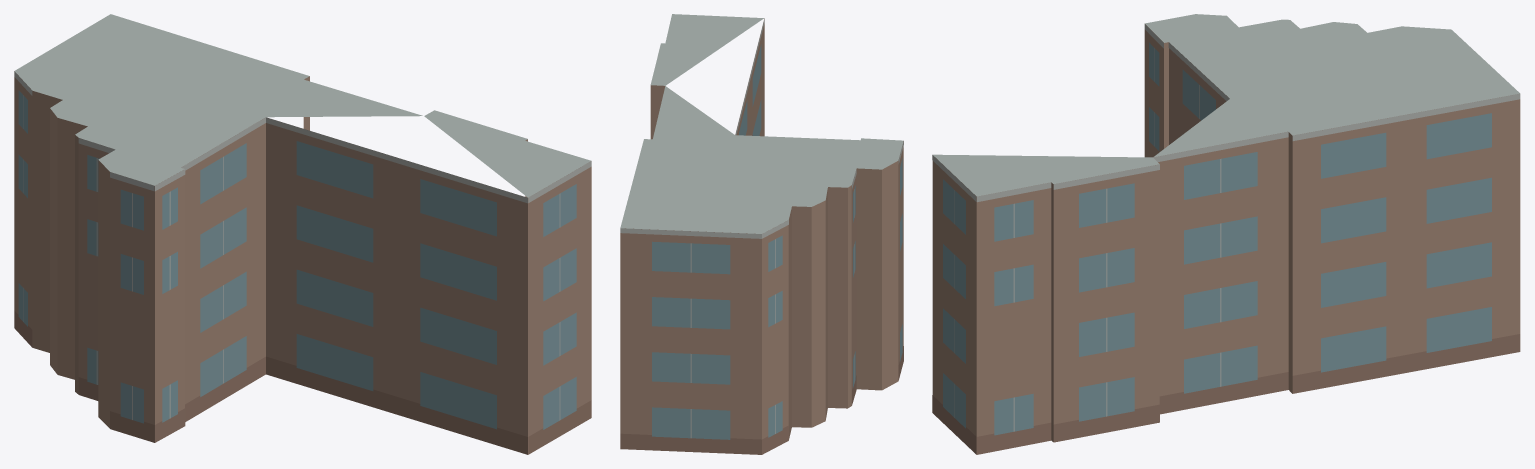
The model's file is survey-upis-32503192.glb.
The picture shows the model from 3 angles, left to right: view 1: azimuth 30°, elevation 25°; view 2: azimuth 150°, elevation 25°; view 3: azimuth 270°, elevation 25°; orthographic projection. The views are drawn at different scales.
Parts seen in each view (by area): view 1: survey-upis-32503192.tmp; view 2: survey-upis-32503192.tmp; view 3: survey-upis-32503192.tmp.
Boxes of the visible parts, <box> form: survey-upis-32503192.tmp: <box>14,14,591,454</box>; survey-upis-32503192.tmp: <box>620,14,903,454</box>; survey-upis-32503192.tmp: <box>932,14,1520,454</box>.
Bounding box in the file's own units: 16.76 × 11.05 × 22.8.
